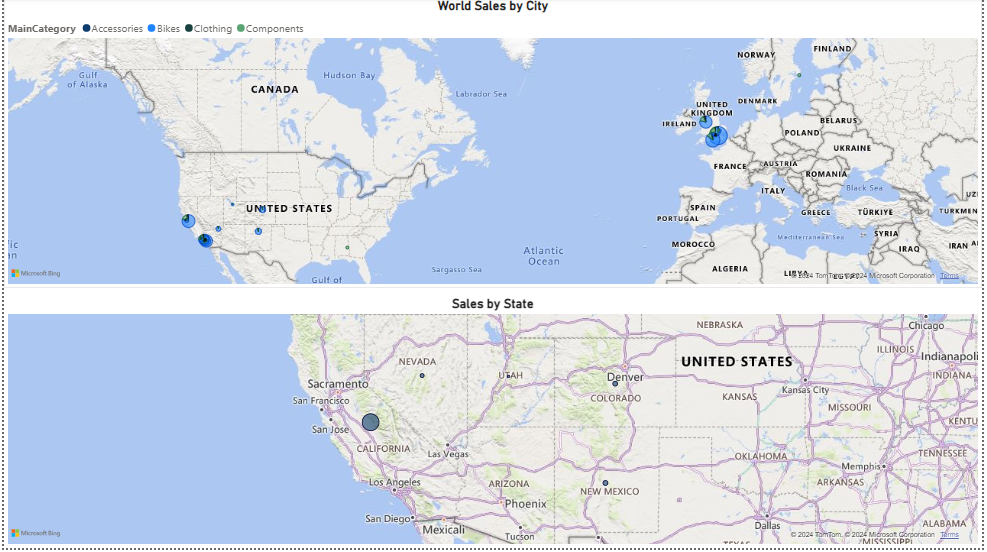

The page's visual inventory and layout, read from the dashboard file:
{"tool":"powerbi","page":{"name":"Page 2","canvas":[1280,720],"ordinal":1},"visuals":[{"type":"map","title":"World Sales by City","fields":{"Category":["Customers.City"],"Size":["Sum(Sales.LineTotal)"],"Series":["Sales.MainCategory"]},"box":[0,0,1280.2,380.2],"z":0},{"type":"map","title":"Sales by State","fields":{"Category":["Sales by States.State Code"],"Size":["Sum(Sales by States.SalesYTD)"]},"box":[0,390,1280,330],"z":1000}]}

Visuals, with their boxes in screenshot pixels (x1, y1, x2, y2), scaled from the page's 1280x720 canvas onto the 987x552 screenshot:
"World Sales by City" map: bbox=[0, 0, 986, 291]
"Sales by State" map: bbox=[0, 299, 986, 551]
